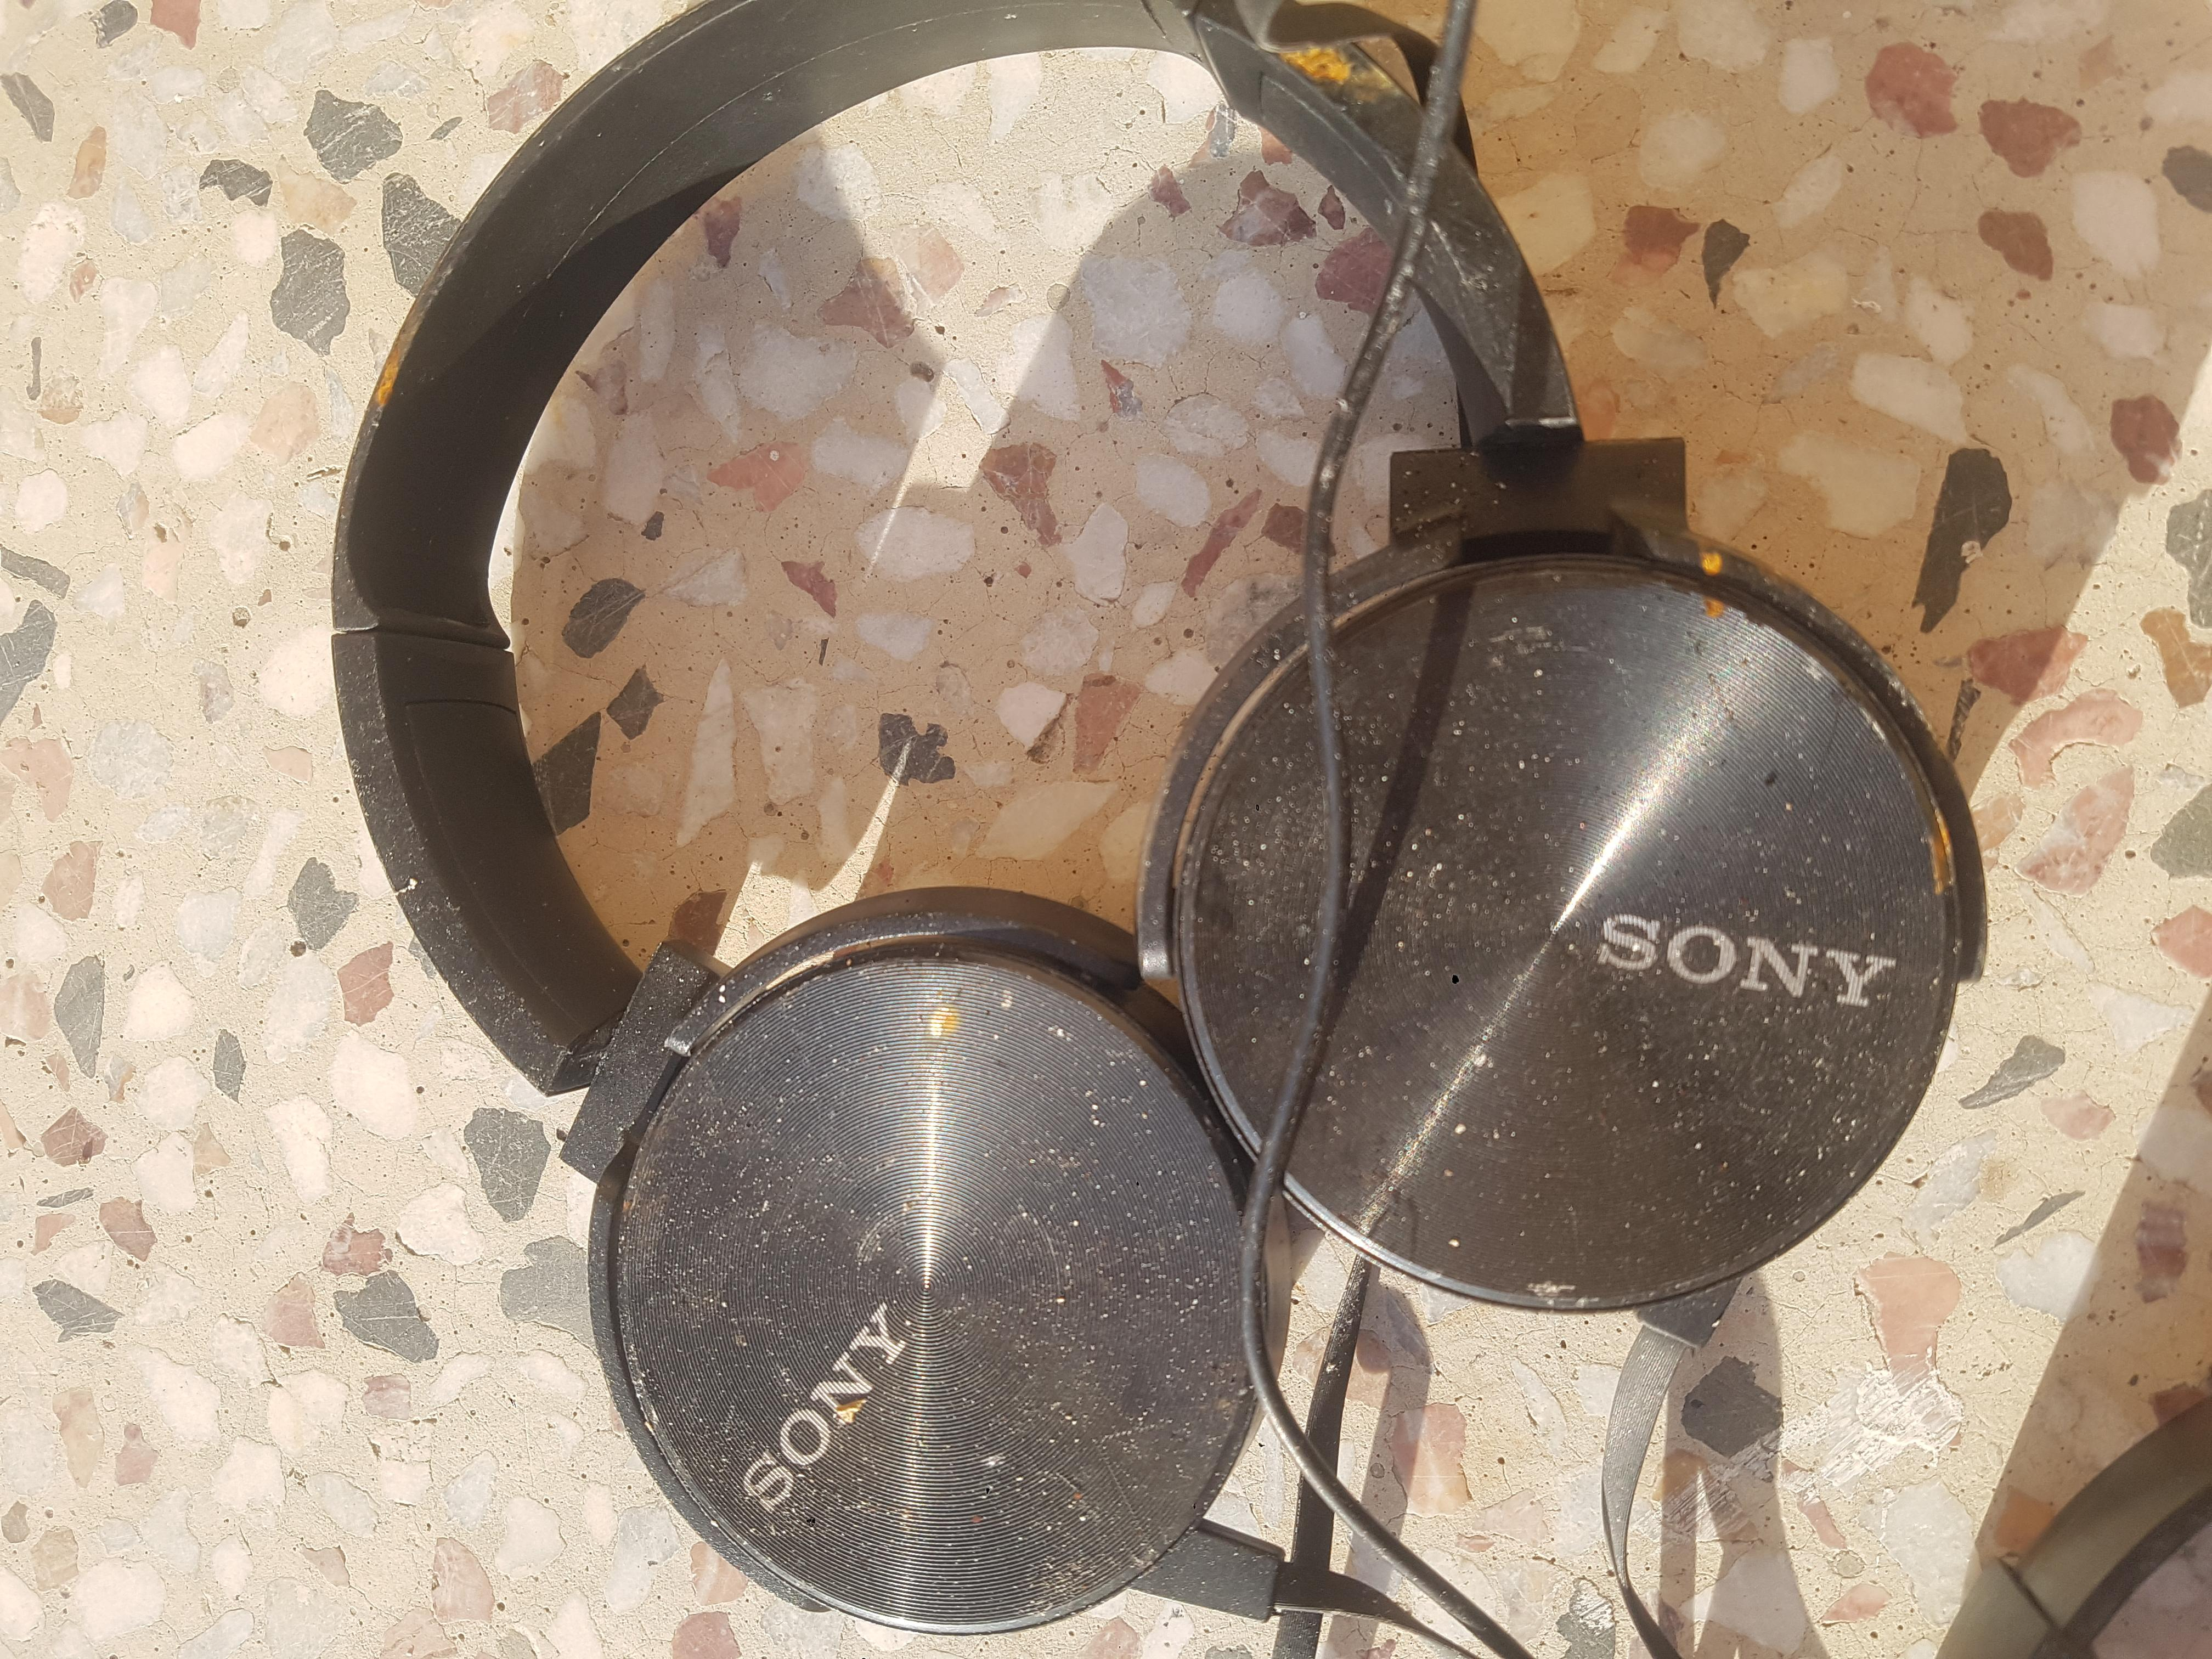electronic: (395, 0, 1641, 1629)
